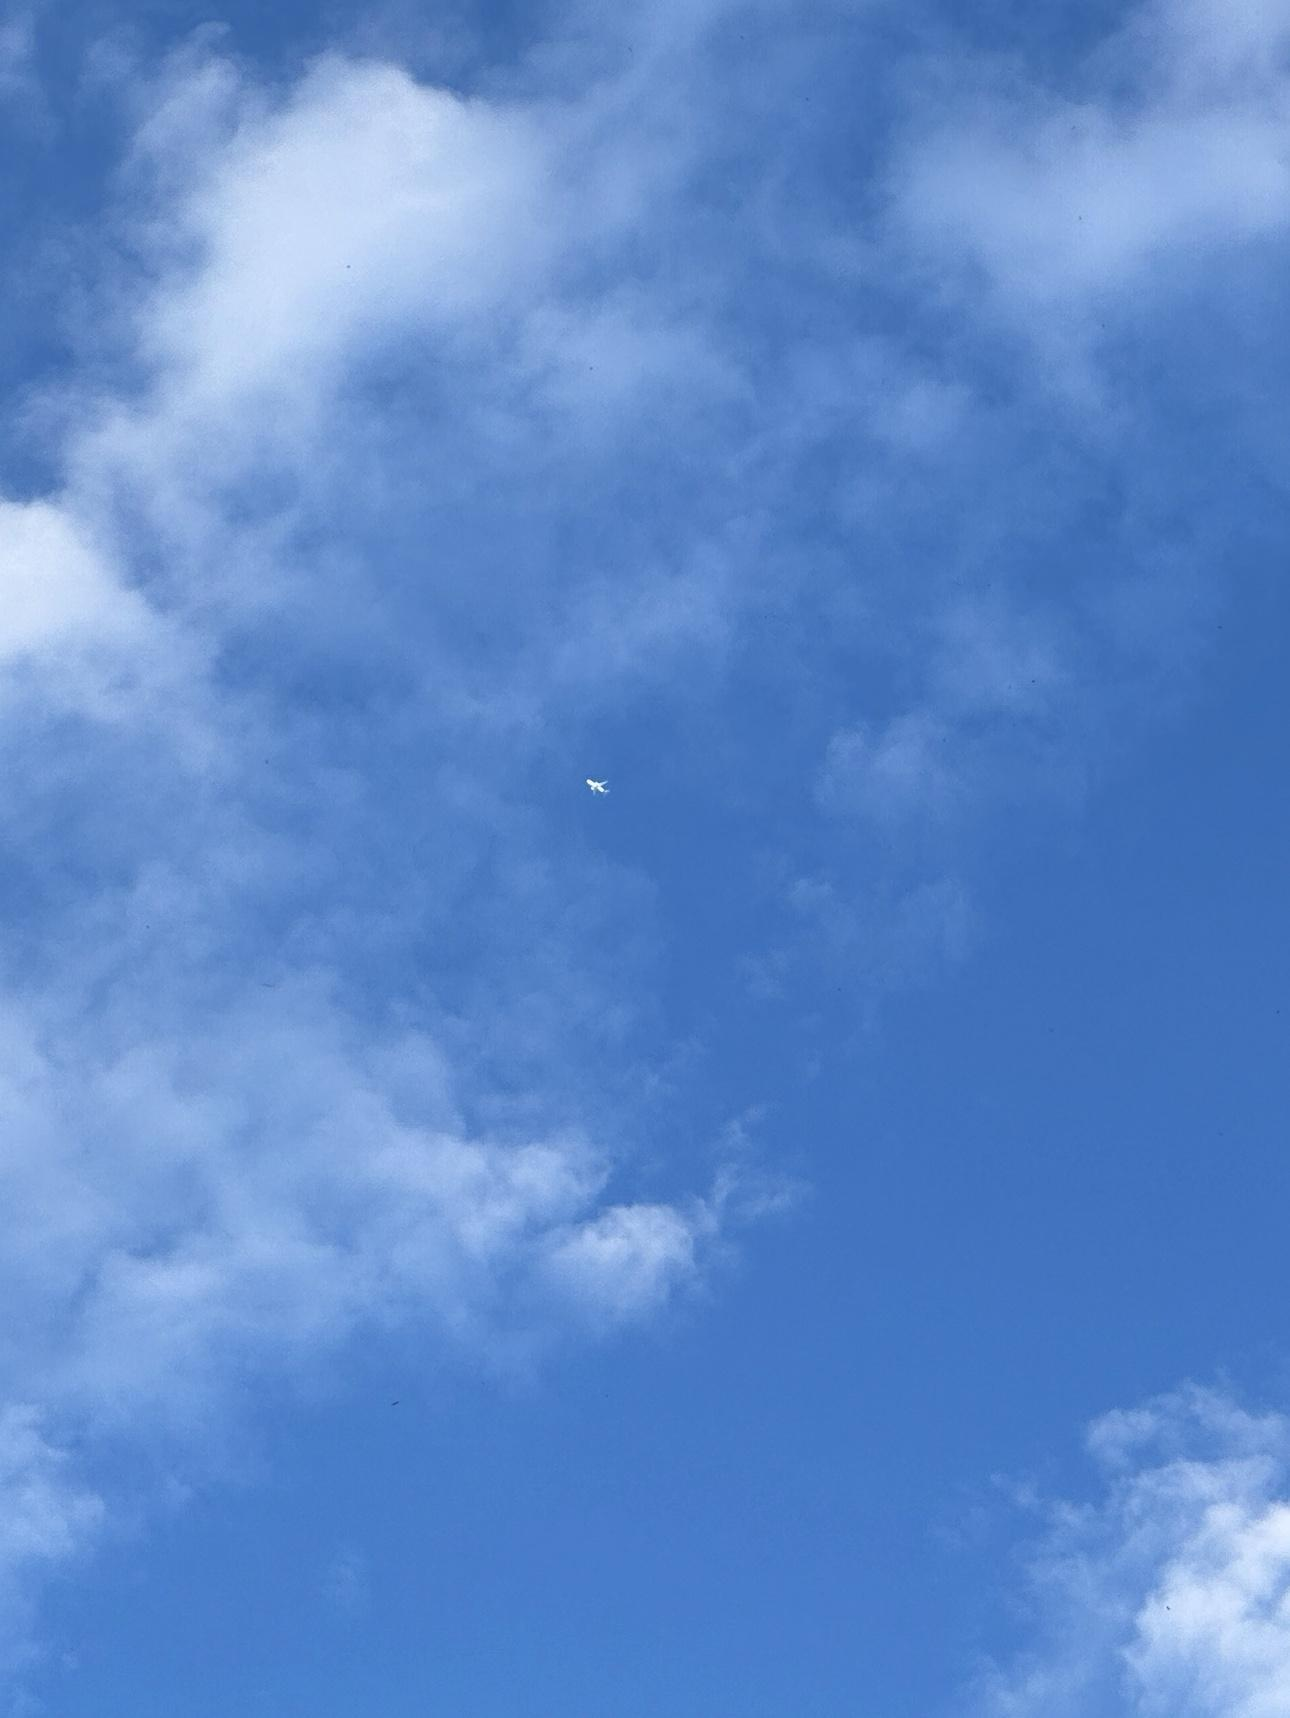Plane: (556, 751, 642, 821)
